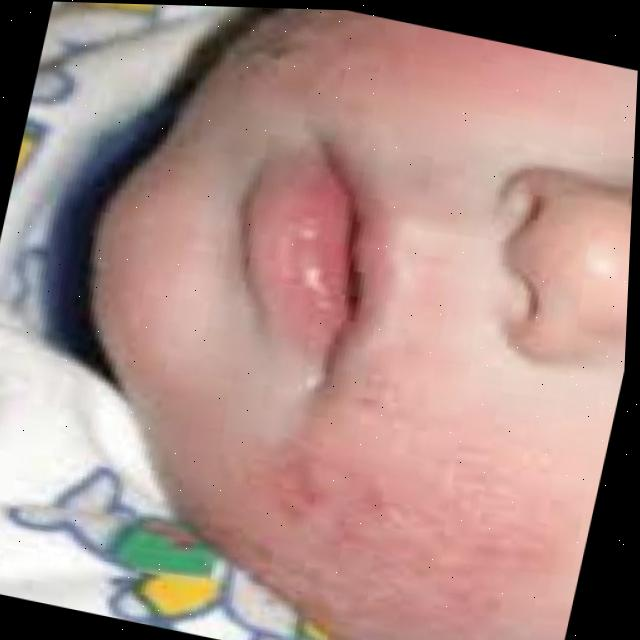Eczema: (226, 388, 591, 640), (235, 7, 547, 137)
